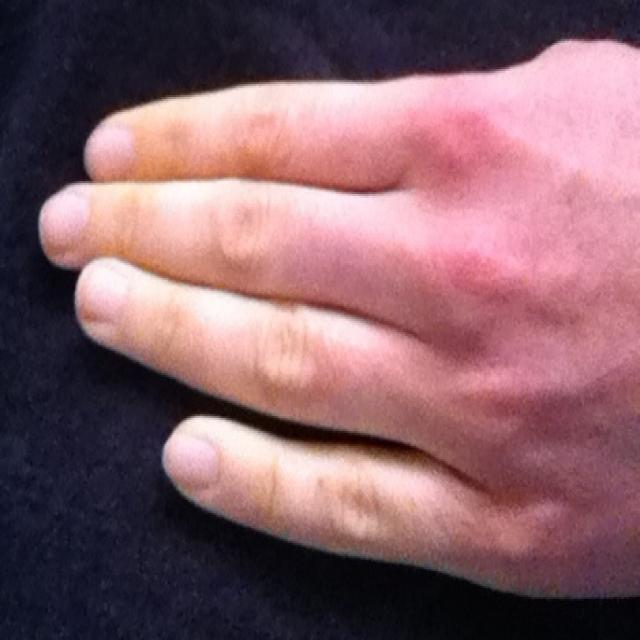raynauds: (50, 264, 381, 406), (149, 415, 416, 556), (38, 172, 343, 272), (86, 87, 388, 179)
